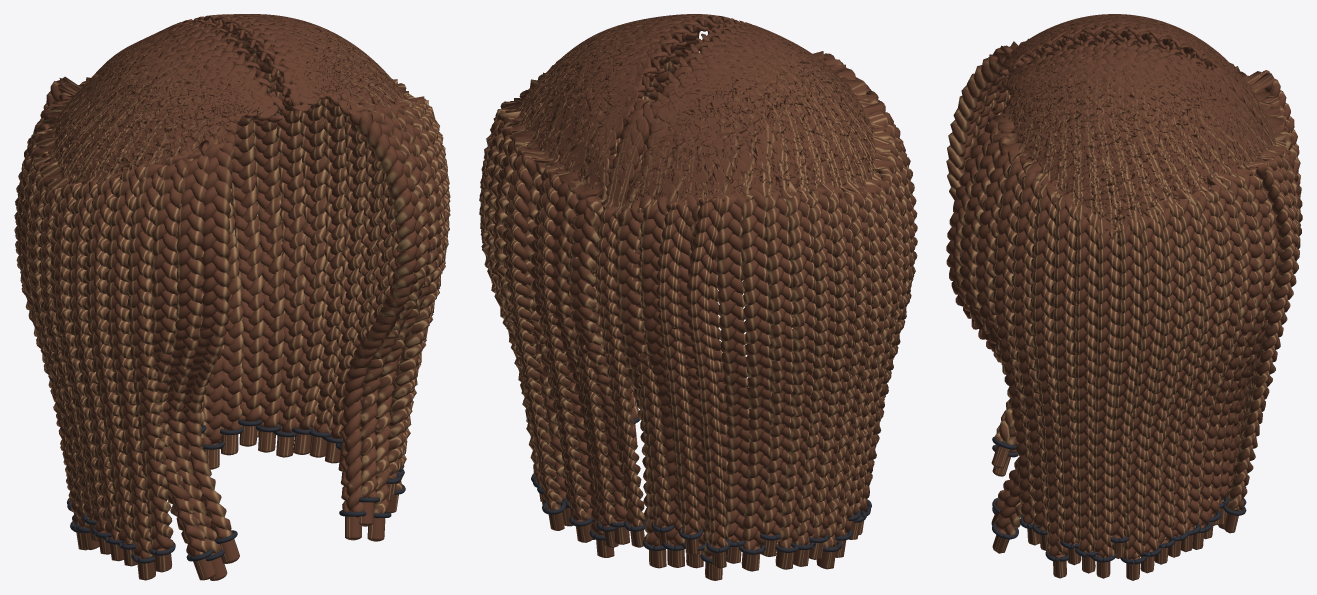
Rendered from Highlights-e68e7167ff91252-hair.glb.
3 renders of one model, left to right at view 1: azimuth 30°, elevation 25°; view 2: azimuth 150°, elevation 25°; view 3: azimuth 270°, elevation 25°, orthographic. The views are drawn at different scales.
Visible parts, largest first — view 1: 226 hair / Hair / chestnut226.002, 226 hair / Hair / ties226.002; view 2: 226 hair / Hair / chestnut226.002, 226 hair / Hair / ties226.002; view 3: 226 hair / Hair / chestnut226.002, 226 hair / Hair / ties226.002.
Boxes of the visible parts, x1,y1,x2,y2 form: 226 hair / Hair / chestnut226.002: (14,14,450,580); 226 hair / Hair / ties226.002: (67,419,405,563); 226 hair / Hair / chestnut226.002: (479,14,917,580); 226 hair / Hair / ties226.002: (531,417,871,563); 226 hair / Hair / chestnut226.002: (946,14,1302,580); 226 hair / Hair / ties226.002: (992,436,1246,564).
Bounding box in the file's own units: 1.07 × 1.3 × 0.8719.
Materials: 2 (1 with a texture image).
